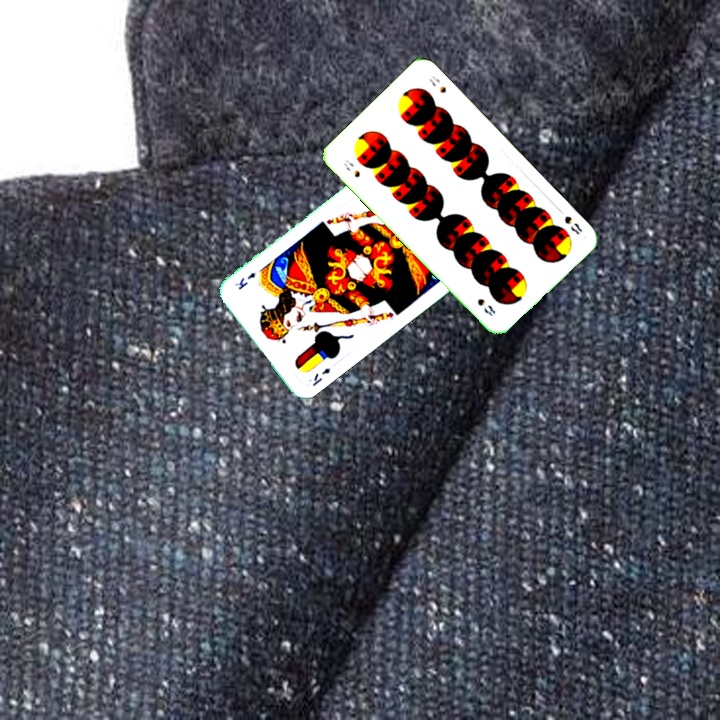EK: (308, 364, 333, 389)
S8: (560, 212, 585, 237), (340, 156, 363, 180)
